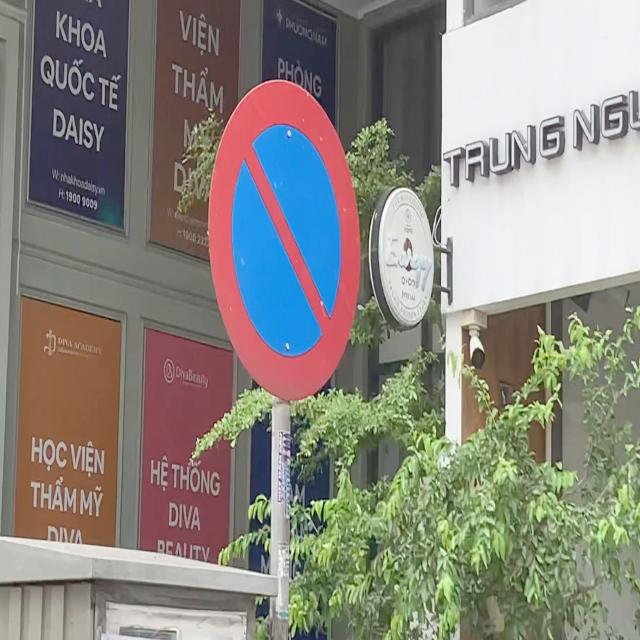Cam do: (206, 75, 362, 396)
